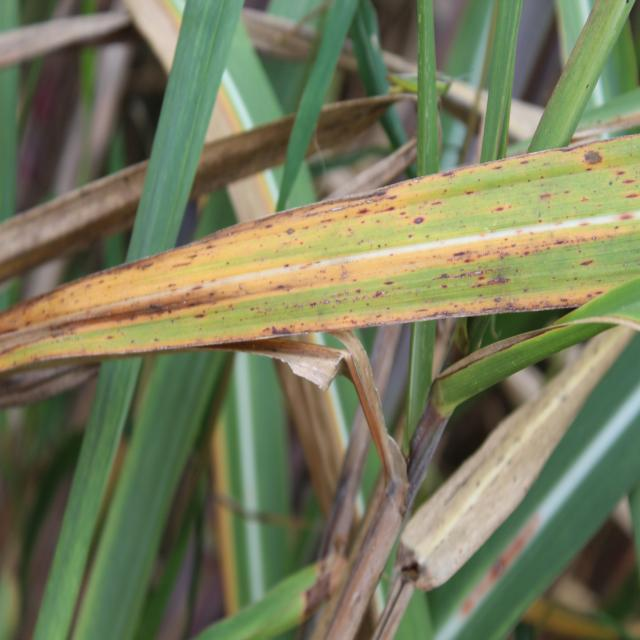Sugarcane: (0, 130, 640, 401), (34, 0, 252, 640), (365, 317, 640, 640)
